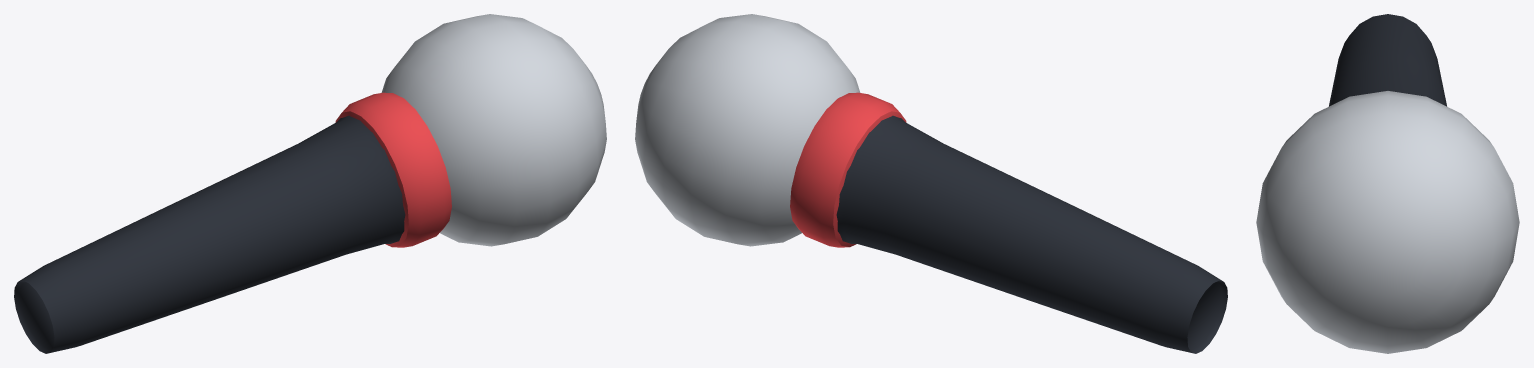
Rendered from microfone_preto.glb.
3 renders of one model, left to right at view 1: azimuth 30°, elevation 25°; view 2: azimuth 150°, elevation 25°; view 3: azimuth 270°, elevation 25°, orthographic. The views are drawn at different scales.
Visible parts, largest first — view 1: microfone_preto; view 2: microfone_preto; view 3: microfone_preto.
Part boxes in pixels (<box>): microfone_preto: <box>14,14,606,353</box>; microfone_preto: <box>635,14,1227,353</box>; microfone_preto: <box>1256,14,1519,353</box>.
Bounding box in the file's own units: 0.2332 × 0.0854 × 0.084.
1 material, 1 textured.
